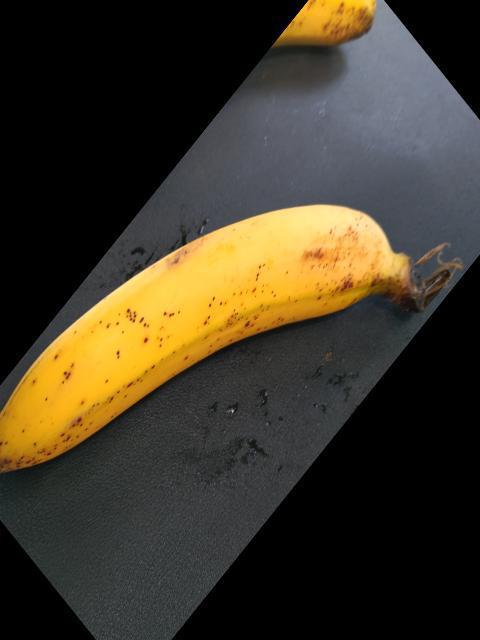ripe: (0, 217, 442, 518), (256, 0, 432, 64)
